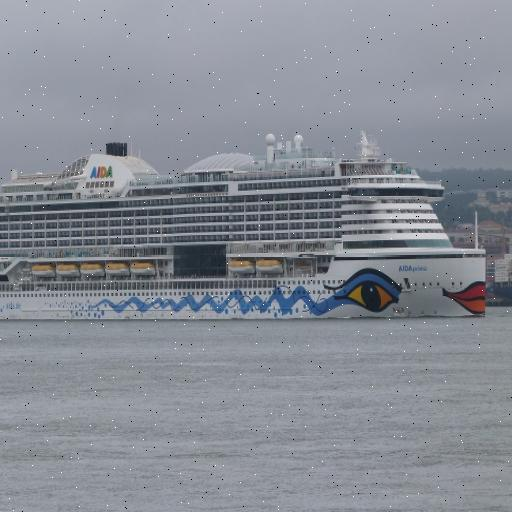cruises: (1, 129, 491, 328)
